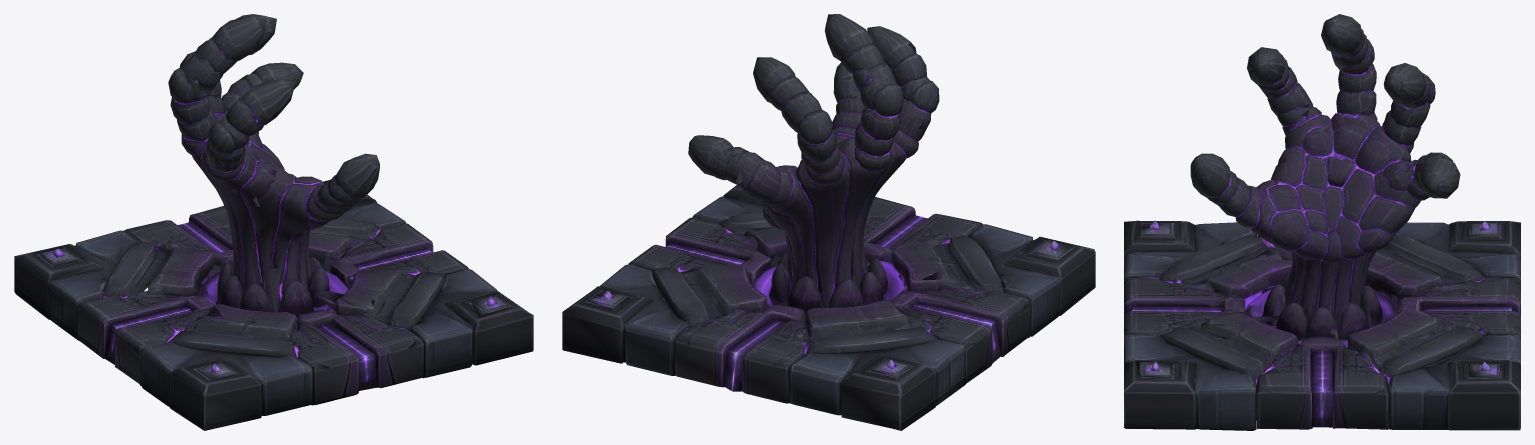
File: snare_voidstone_nexus_sprung.glb
3 views of the same model, side by side, from view 1: azimuth 30°, elevation 25°; view 2: azimuth 150°, elevation 25°; view 3: azimuth 270°, elevation 25° (orthographic). The views are drawn at different scales.
Visible parts, largest first — view 1: mesh_node; view 2: mesh_node; view 3: mesh_node.
Boxes of the visible parts, <box> form: mesh_node: <box>14,14,533,430</box>; mesh_node: <box>562,14,1095,430</box>; mesh_node: <box>1124,14,1520,430</box>.
Size of the model in its own units: 1 by 0.9902 by 1.
Materials: 1 (1 with a texture image).
